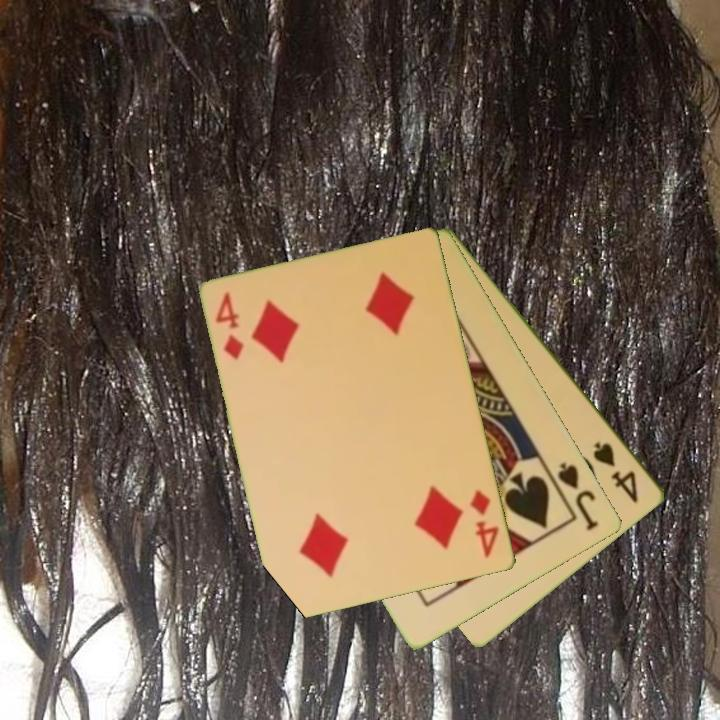4d: (466, 487, 503, 562), (212, 289, 247, 363)
4s: (590, 438, 642, 507)
Js: (554, 458, 602, 534)
